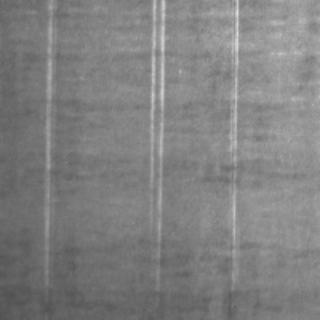scratches: (142, 1, 166, 266), (36, 3, 56, 284), (222, 0, 240, 280)
